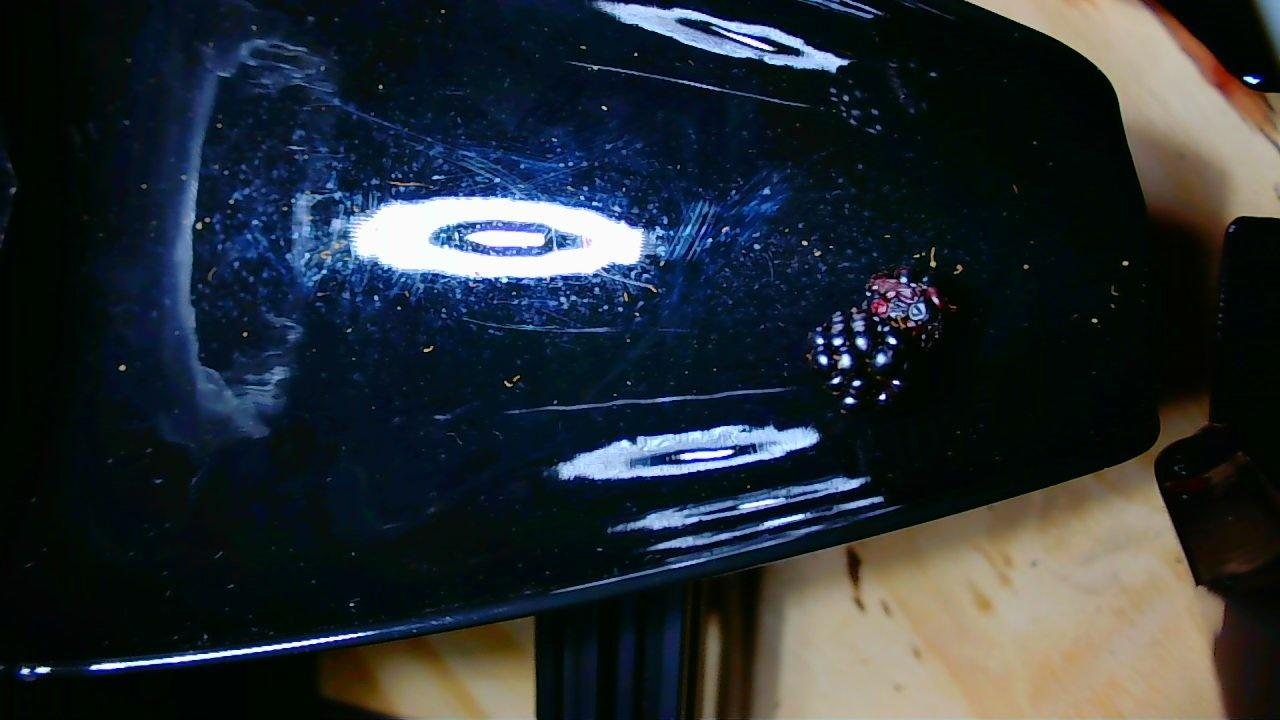berry: (807, 309, 906, 408), (864, 266, 952, 346)
